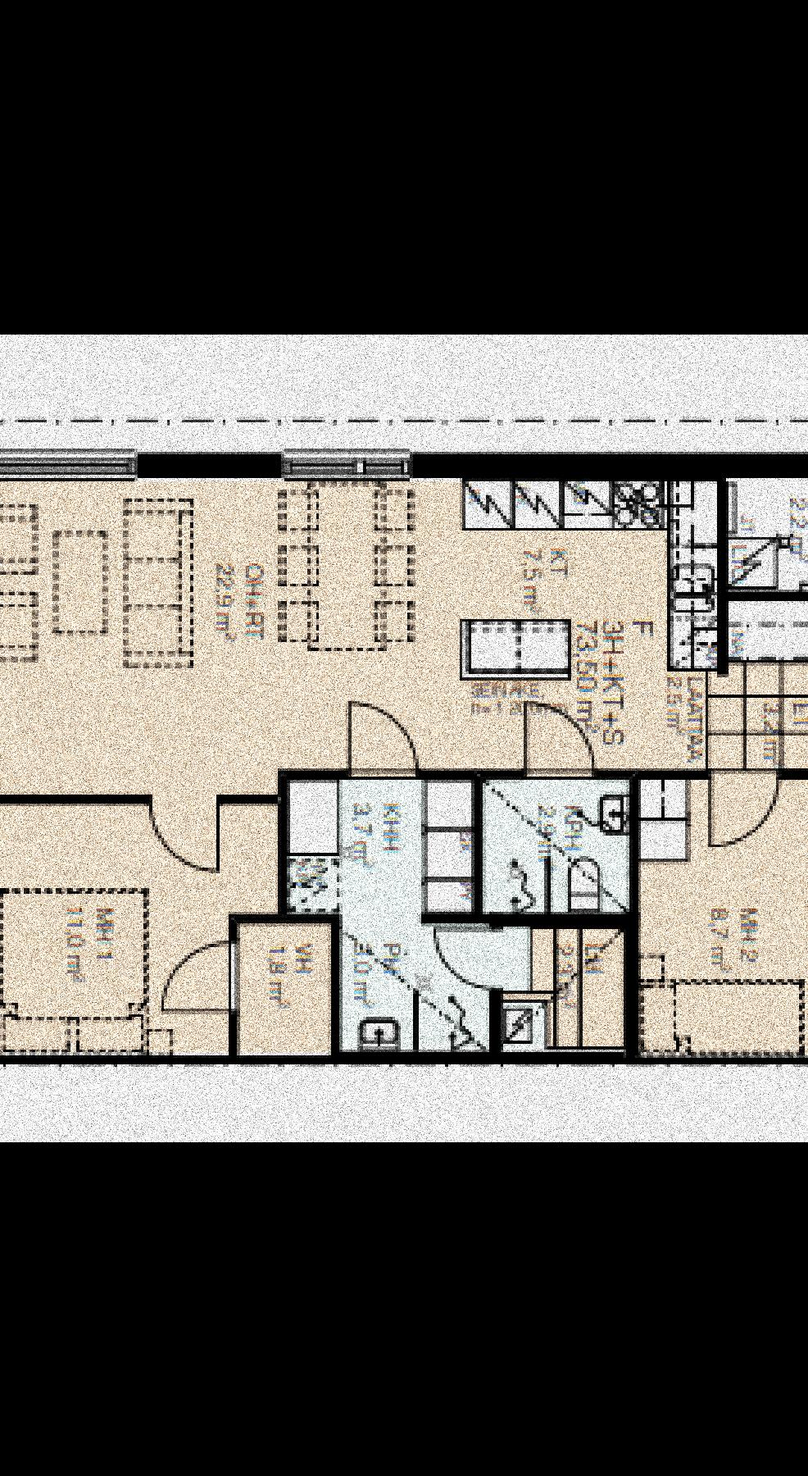door: (153, 932, 246, 1019), (148, 790, 228, 877), (710, 763, 783, 855), (525, 690, 597, 781), (352, 699, 422, 781), (431, 918, 498, 997)
window: (0, 450, 138, 477), (288, 450, 413, 476)
zone: (0, 494, 715, 800), (290, 775, 624, 1051), (0, 803, 281, 1056), (639, 769, 808, 1056), (712, 468, 808, 762), (242, 924, 333, 1056)
